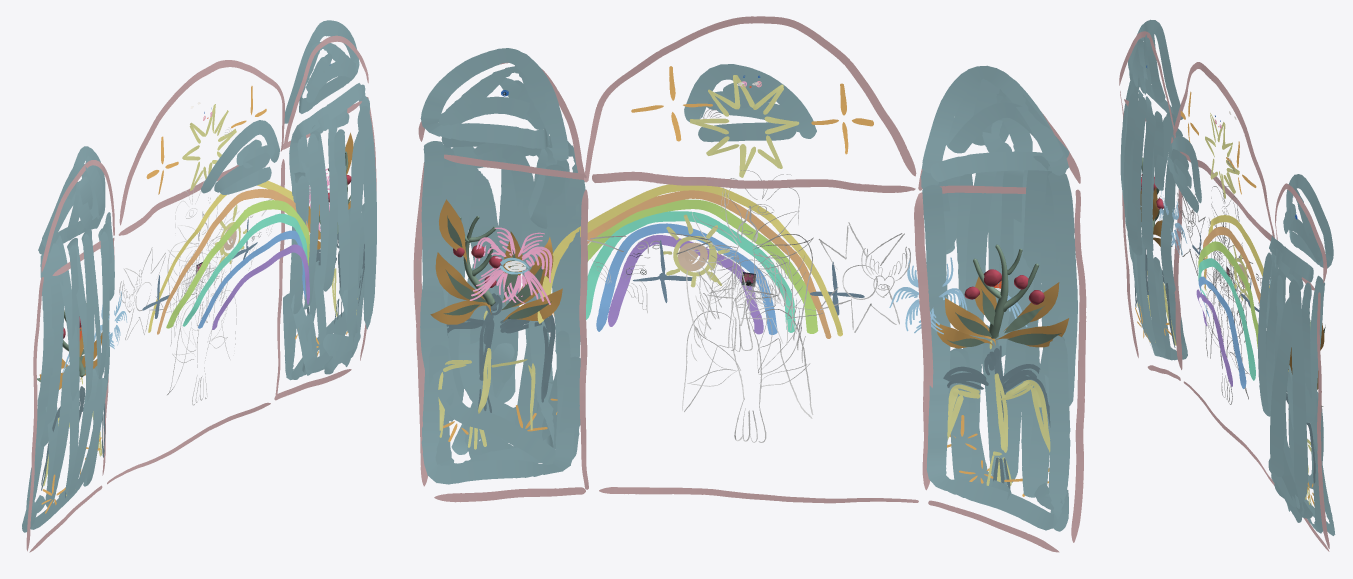
Rendered from artwork-9.glb.
3 renders of one model, left to right at view 1: azimuth 30°, elevation 25°; view 2: azimuth 150°, elevation 25°; view 3: azimuth 270°, elevation 25°, orthographic. The views are drawn at different scales.
Parts seen in each view (by area): view 1: brush_marker_4, brush_marker_0, brush_marker_2, brush_marker_1, brush_doubletaperedmarker_0, brush_marker_5, brush_wigglygraphite_6, brush_wigglygraphite_3, brush_wigglygraphite_0; view 2: brush_marker_4, brush_marker_0, brush_marker_2, brush_doubletaperedmarker_0, brush_marker_1, brush_marker_3, brush_icing_0, brush_marker_5, brush_wigglygraphite_0, brush_wigglygraphite_6, brush_wigglygraphite_3, brush_wigglygraphite_4 (+4 smaller); view 3: brush_marker_4, brush_marker_0, brush_marker_2, brush_marker_1, brush_marker_5, brush_doubletaperedmarker_0, brush_wigglygraphite_6, brush_wigglygraphite_0, brush_wigglygraphite_1, brush_wigglygraphite_3.
Part boxes in pixels (<box>): brush_marker_4: <box>22,20,376,532</box>; brush_marker_0: <box>26,35,376,552</box>; brush_marker_2: <box>94,181,309,348</box>; brush_marker_1: <box>41,104,357,497</box>; brush_doubletaperedmarker_0: <box>37,132,353,389</box>; brush_marker_5: <box>41,64,347,513</box>; brush_wigglygraphite_6: <box>167,127,236,405</box>; brush_wigglygraphite_3: <box>123,224,273,339</box>; brush_wigglygraphite_0: <box>167,211,233,325</box>; brush_marker_4: <box>420,48,1077,531</box>; brush_marker_0: <box>413,16,1086,552</box>; brush_marker_2: <box>537,184,967,338</box>; brush_doubletaperedmarker_0: <box>430,199,1068,348</box>; brush_marker_1: <box>438,75,1050,489</box>; brush_marker_3: <box>469,227,1027,327</box>; brush_icing_0: <box>459,216,1038,338</box>; brush_marker_5: <box>443,66,1049,496</box>; brush_wigglygraphite_0: <box>686,206,812,351</box>; brush_wigglygraphite_6: <box>682,108,813,442</box>; brush_wigglygraphite_3: <box>592,222,904,345</box>; brush_wigglygraphite_4: <box>587,232,910,325</box>; brush_marker_4: <box>1120,19,1335,535</box>; brush_marker_0: <box>1119,31,1329,551</box>; brush_marker_2: <box>1159,191,1288,388</box>; brush_marker_1: <box>1134,113,1311,505</box>; brush_marker_5: <box>1135,65,1314,506</box>; brush_doubletaperedmarker_0: <box>1140,187,1325,406</box>; brush_wigglygraphite_6: <box>1205,158,1248,404</box>; brush_wigglygraphite_0: <box>1208,221,1246,330</box>; brush_wigglygraphite_1: <box>1206,178,1249,374</box>; brush_wigglygraphite_3: <box>1180,193,1235,307</box>.
Size of what is drawn, in the model's own units: 261216 by 231879 by 114580.
7 materials, 4 textured.
